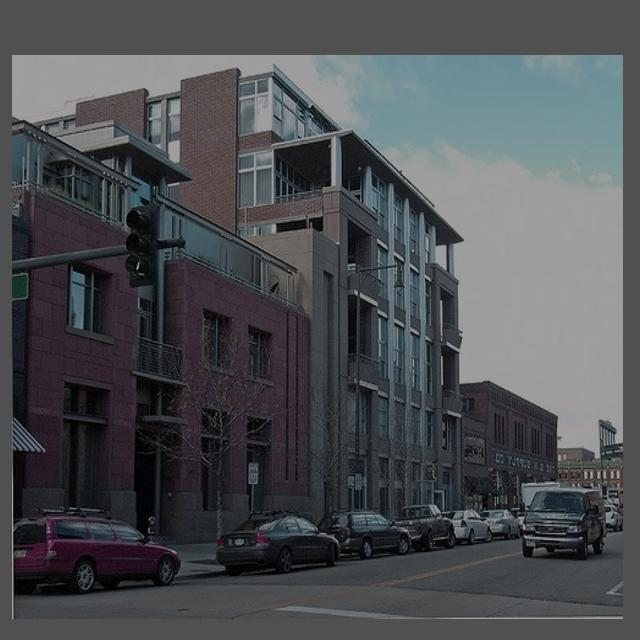car: (12, 513, 181, 595), (215, 510, 336, 575), (521, 487, 608, 557), (316, 509, 410, 560), (393, 499, 454, 553), (440, 506, 492, 545), (476, 503, 521, 541)
